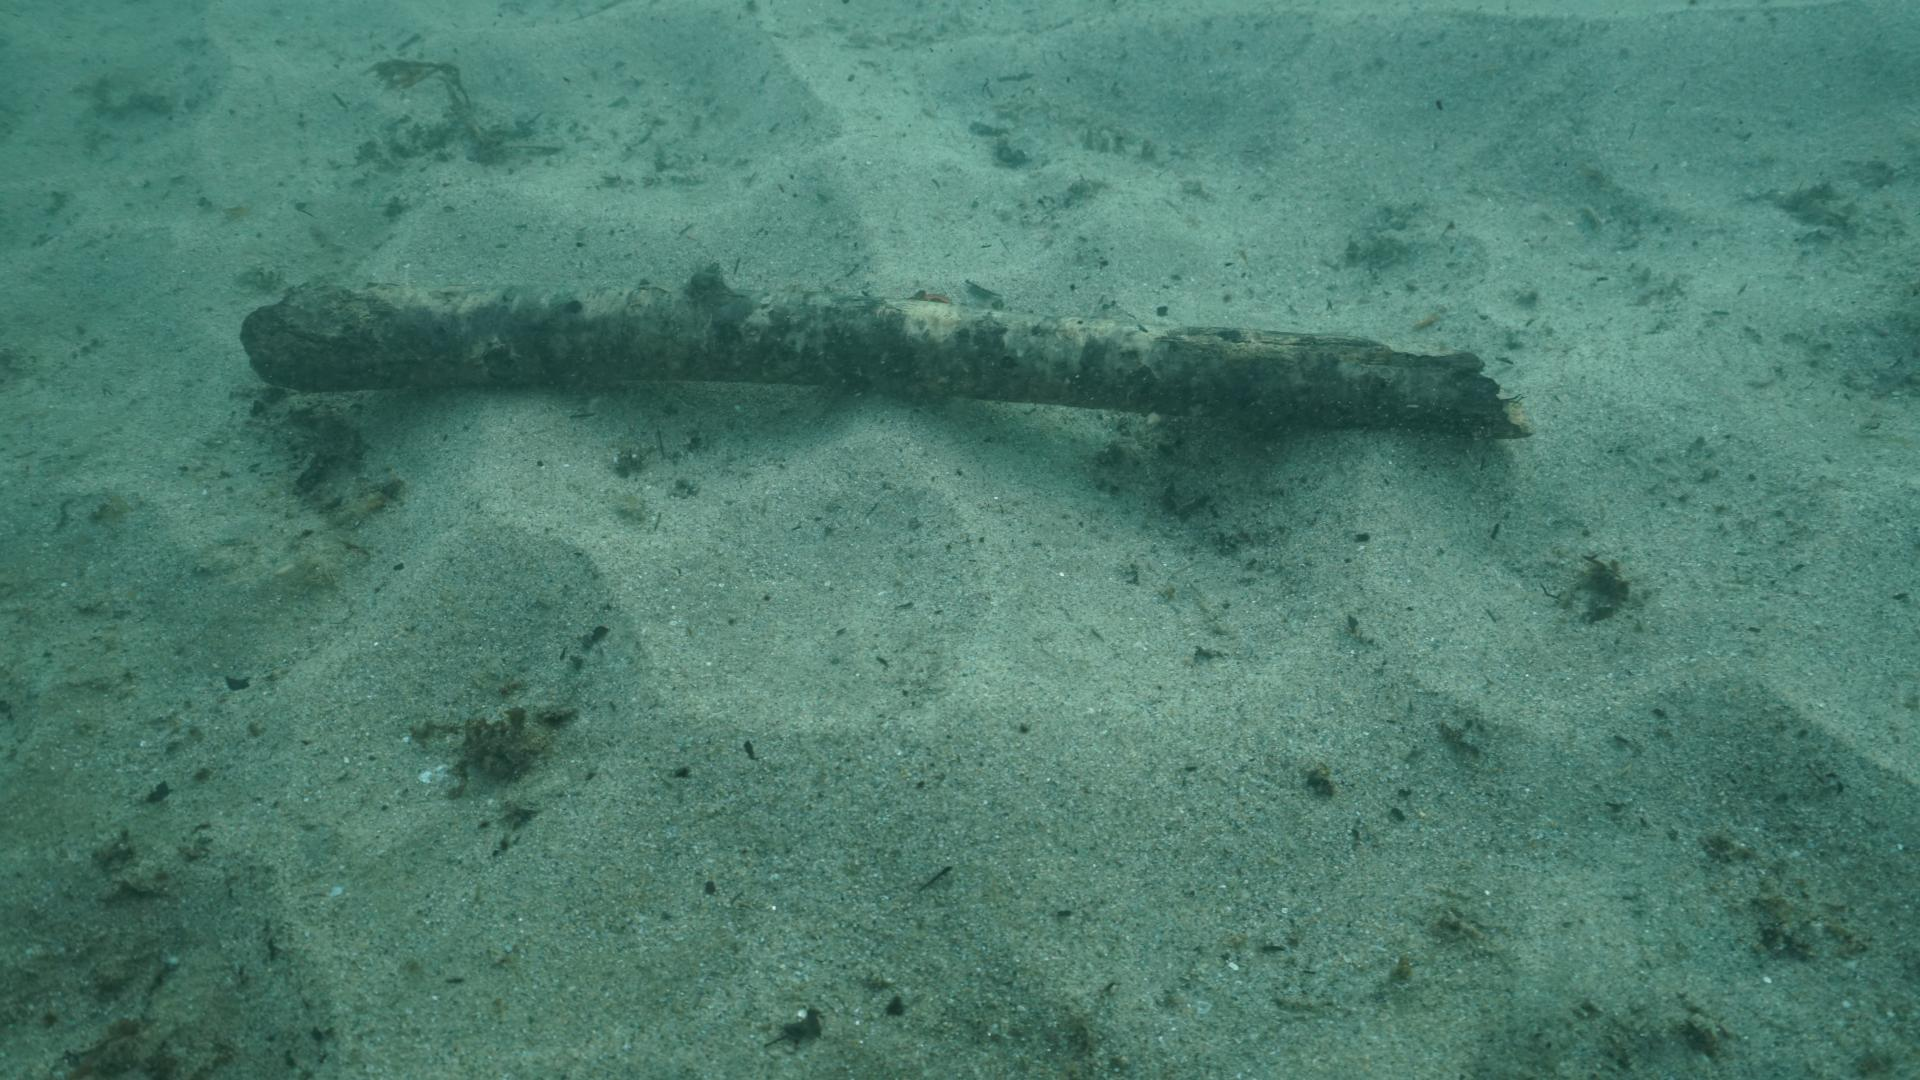wood: (237, 258, 1534, 439)
